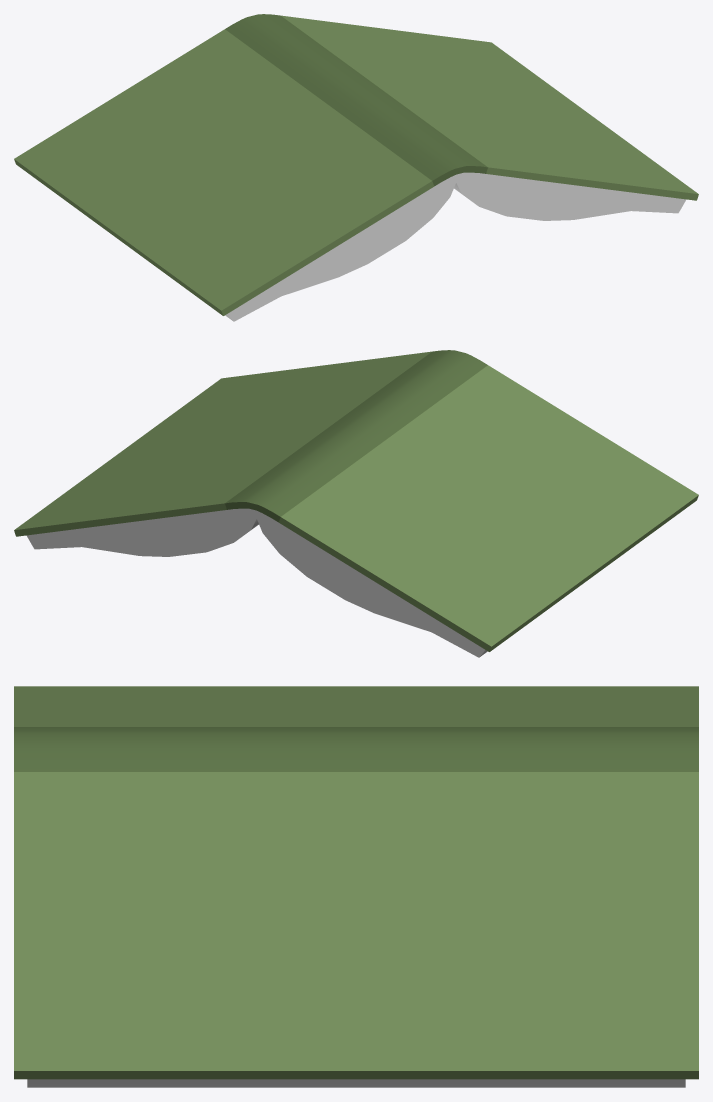
Rendered from Book_01_Open_02.fbx.
3 renders of one model, top to bottom at view 1: azimuth 30°, elevation 25°; view 2: azimuth 150°, elevation 25°; view 3: azimuth 270°, elevation 25°, orthographic. The views are drawn at different scales.
Visible parts, largest first — view 1: Book_01_Open_02; view 2: Book_01_Open_02; view 3: Book_01_Open_02.
Boxes of the visible parts, x1,y1,x2,y2 form: Book_01_Open_02: [14, 14, 698, 321]; Book_01_Open_02: [14, 350, 698, 657]; Book_01_Open_02: [14, 686, 698, 1087].
Bounding box in the file's own units: 0.3147 × 0.0649 × 0.2367.
